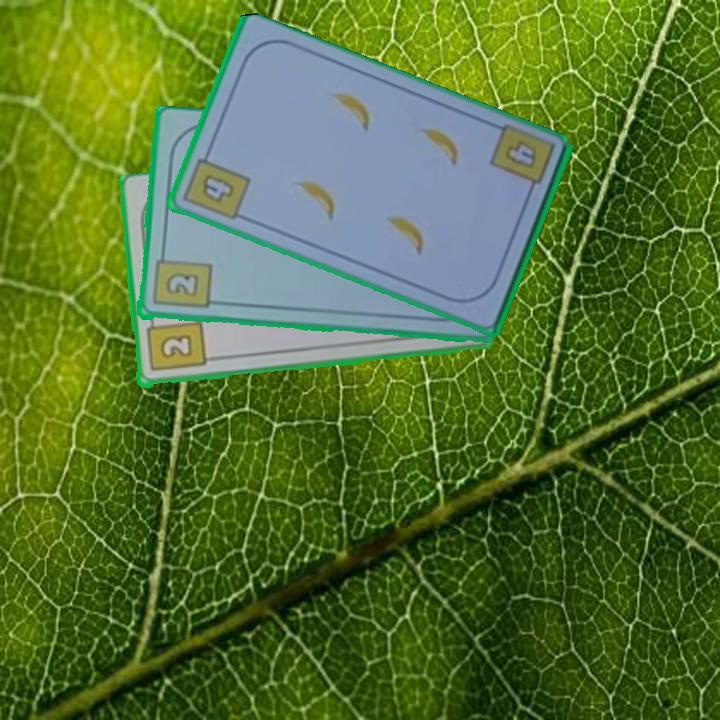2b: (149, 247, 213, 312), (142, 313, 208, 375)
4b: (180, 146, 253, 223), (501, 137, 539, 172)
